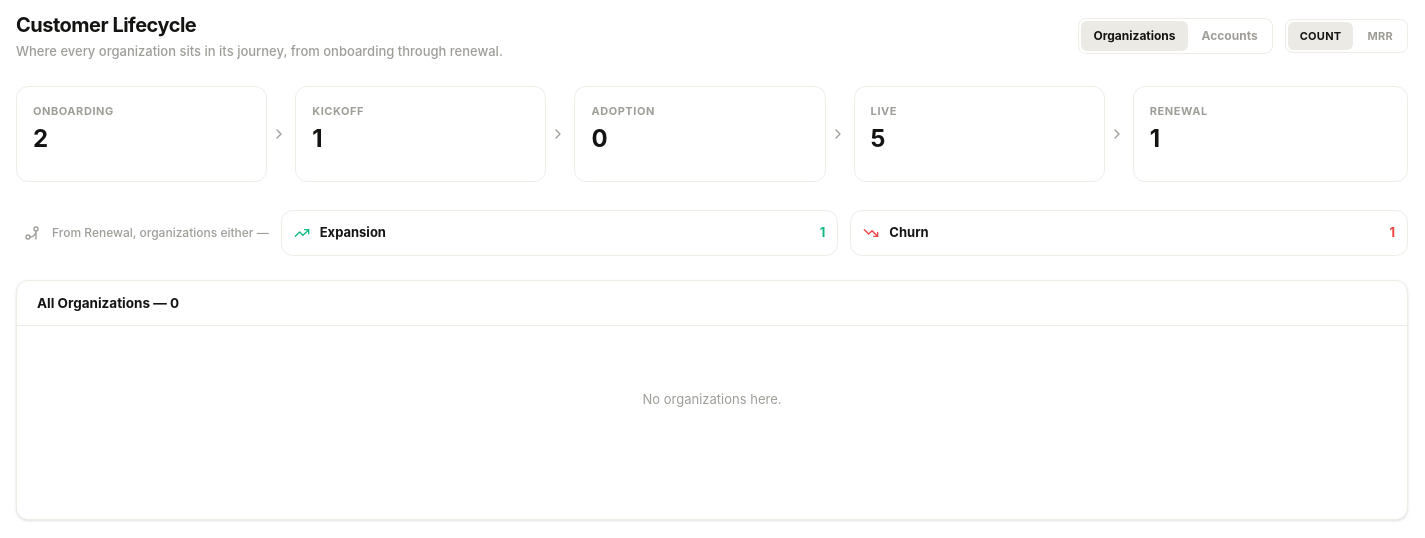
Test: LifecyclePage › switching to MRR shows compact money values instead of counts
Expected: the text "Onboarding" is shown, [33,102,114,119]
Click the button "mrr": (1380, 36) [1356,22,1405,50]
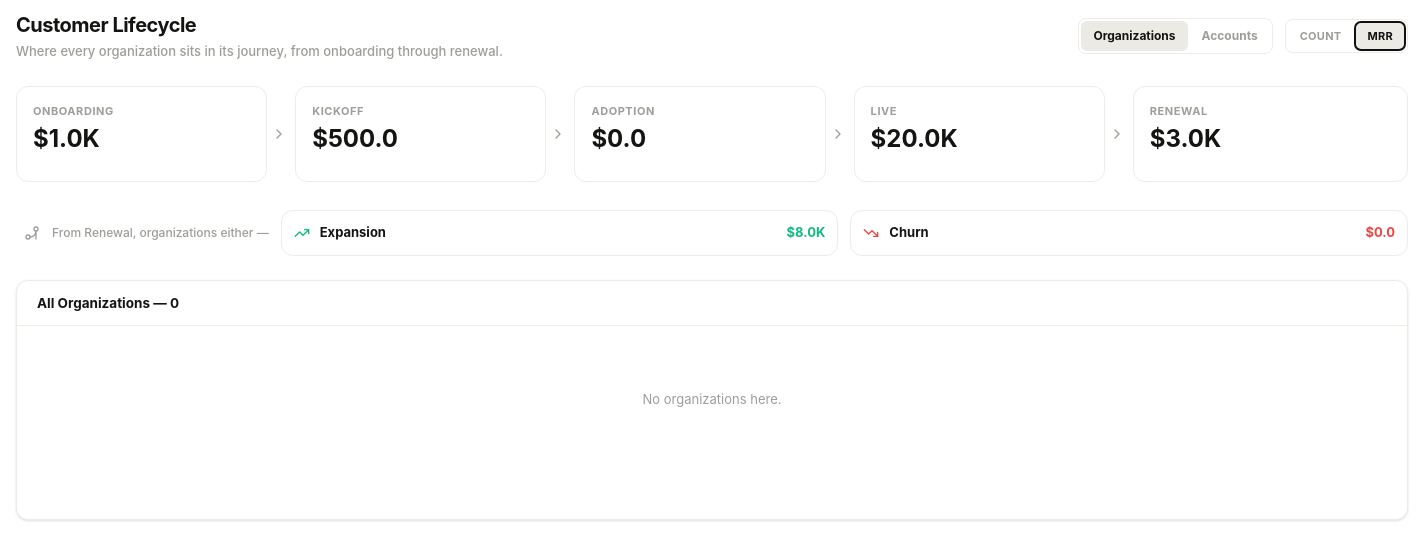
Expected: the text "$20.0K" is shown, [871,127,958,151]
